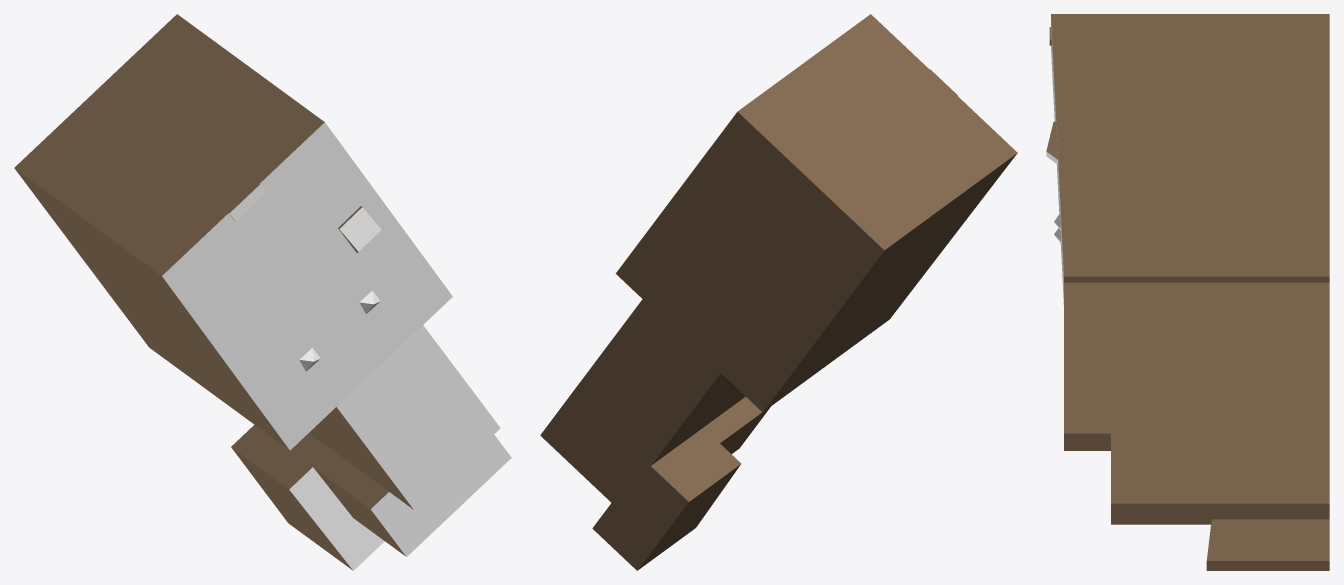
3 renders of one model, left to right at view 1: azimuth 30°, elevation 25°; view 2: azimuth 150°, elevation 25°; view 3: azimuth 270°, elevation 25°, orthographic. The views are drawn at different scales.
Visible parts, largest first — view 1: City_PC-08692; view 2: City_PC-08692; view 3: City_PC-08692.
Part boxes in pixels (bbox=[...]): City_PC-08692: bbox=[14, 14, 511, 570]; City_PC-08692: bbox=[540, 14, 1017, 570]; City_PC-08692: bbox=[1046, 14, 1329, 570].
Size of the model in its own units: 2266 by 3042 by 1544.
